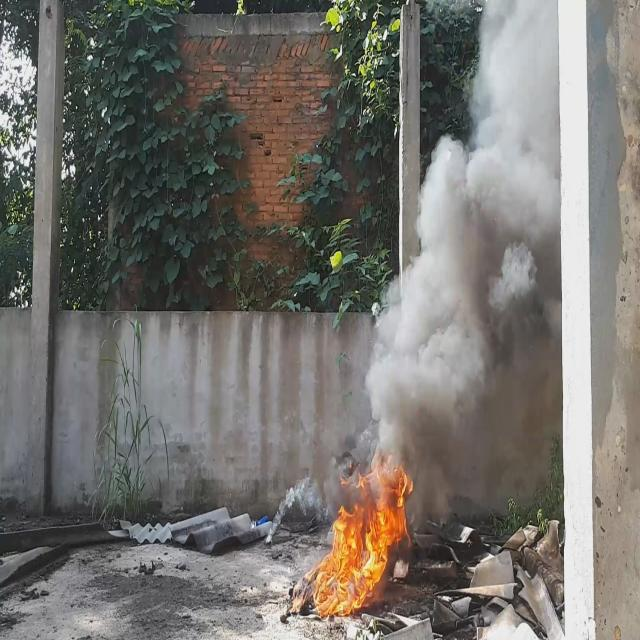Fire: (291, 453, 414, 615)
Smoke: (366, 0, 560, 529)
